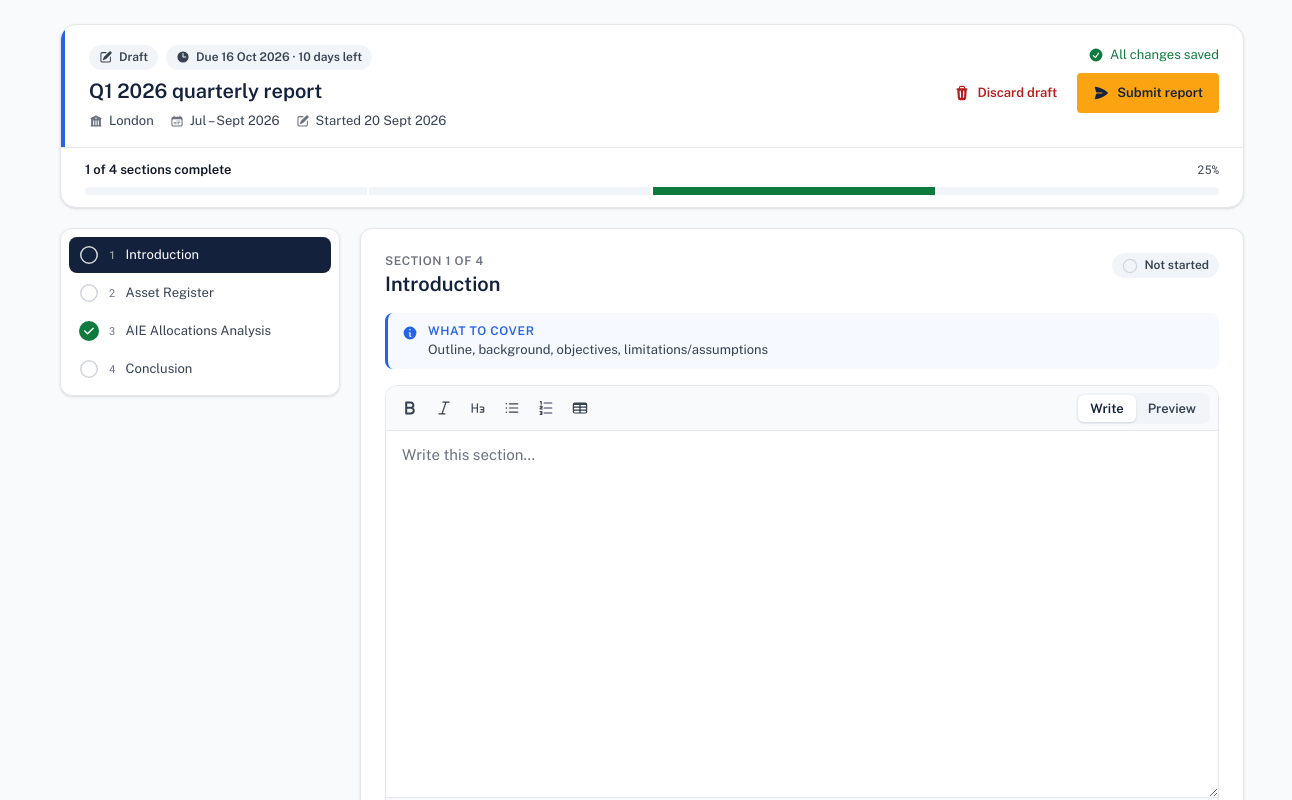
Test: ReportFormPage — the attache editor › TC-FR-RPT-015-B: switches to the read-only report when a save is refused because it was submitted elsewhere
Type "Too late" into the text box labelled "Introduction".
click(802, 614); type("Too late")  # box [386,431,1218,797]
(page scrolled)
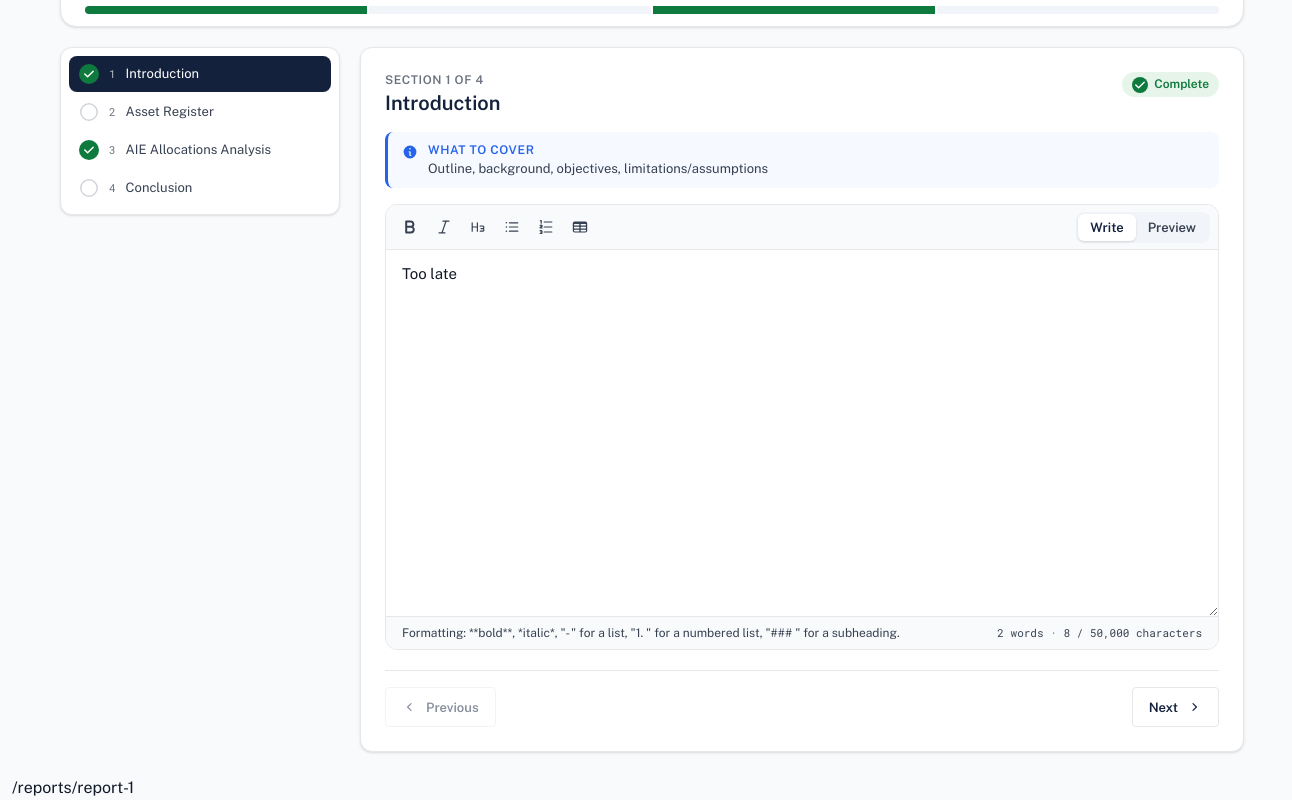
Click the button "Next".
click(1175, 707)  # box [1132,687,1219,727]
(page scrolled)
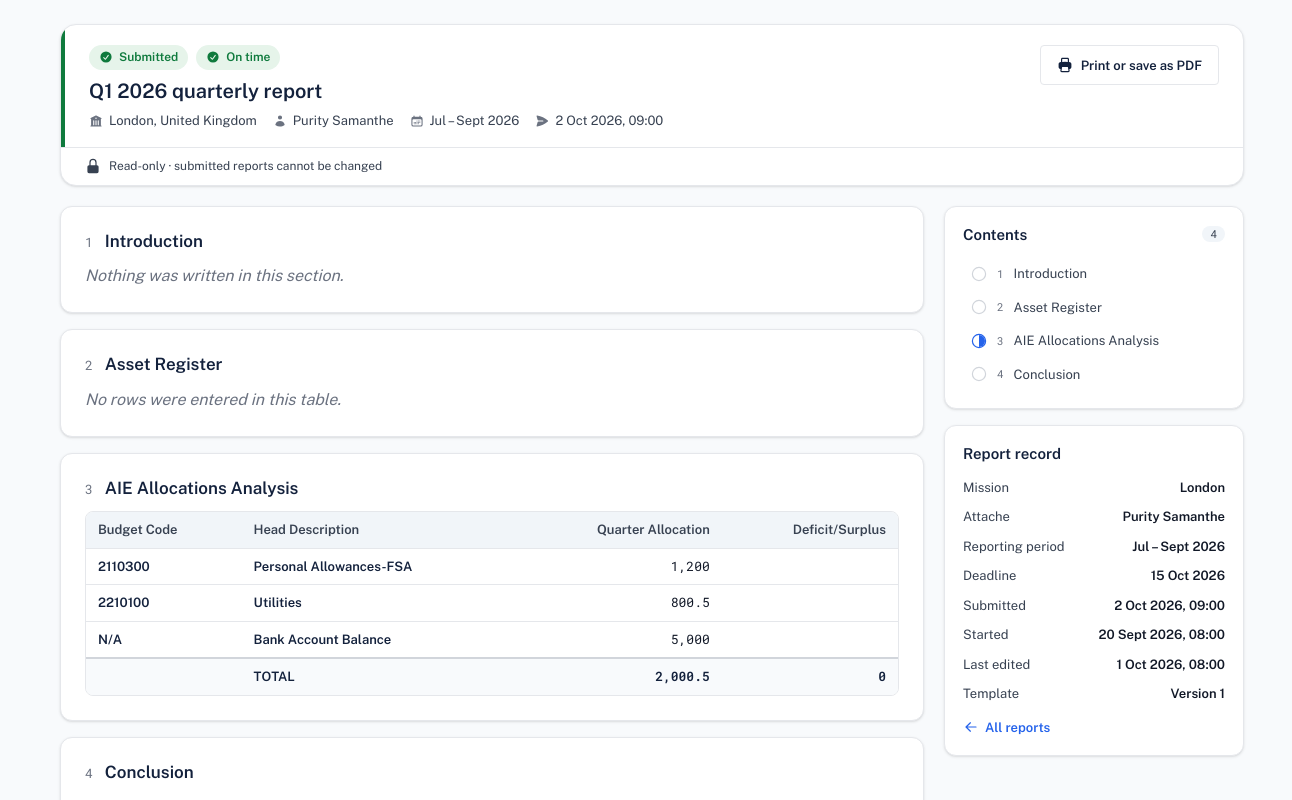
Check: the element with test id "report-read-only" is shown, box [61,147,1243,185]
